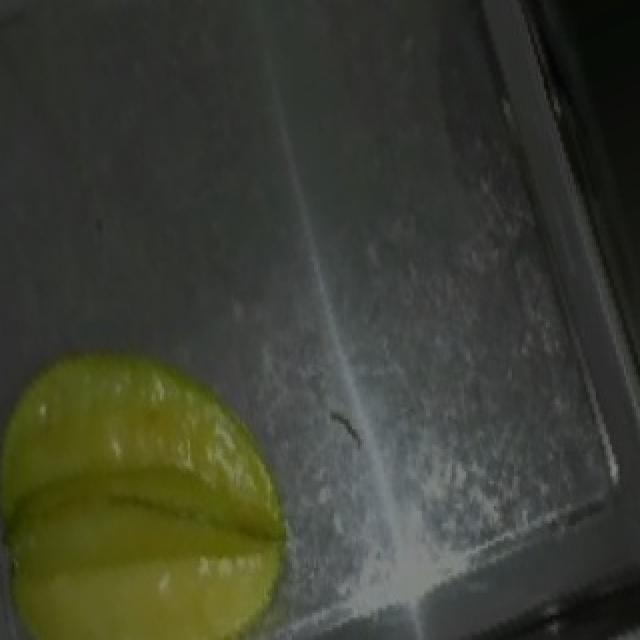fruit: (28, 317, 348, 640)
